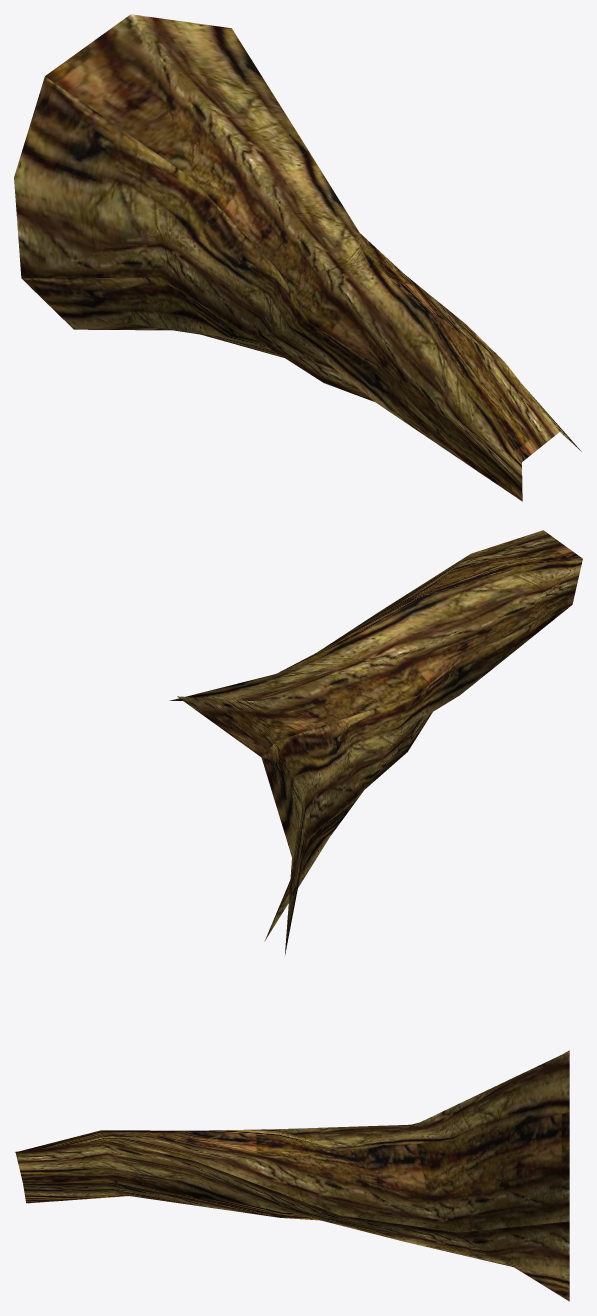
3 views of the same model, one above another, from view 1: azimuth 30°, elevation 25°; view 2: azimuth 150°, elevation 25°; view 3: azimuth 270°, elevation 25° (orthographic). The views are drawn at different scales.
Visible parts, largest first — view 1: model_Object15; view 2: model_Object15; view 3: model_Object15.
Part boxes in pixels (x1,y1,x2,y2): model_Object15: (14, 14, 581, 501); model_Object15: (169, 530, 582, 954); model_Object15: (15, 1050, 569, 1301).
Bounding box in the file's own units: 2.99 × 3.36 × 7.55.
1 material, 1 textured.
